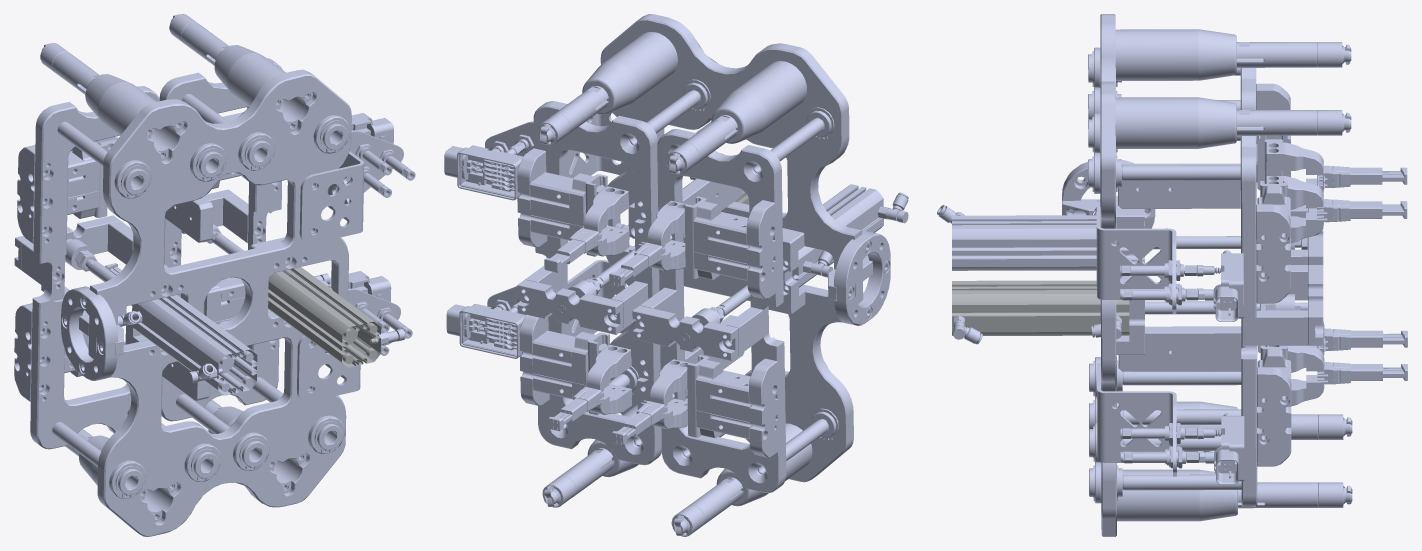
File: imm-insert-gripper.glb
3 views of the same model, side by side, from view 1: azimuth 30°, elevation 25°; view 2: azimuth 150°, elevation 25°; view 3: azimuth 270°, elevation 25° (orthographic). The views are drawn at different scales.
Parts seen in each view (by area): view 1: insert-gripper-frame_mesh, insert-gripper-side-b_mesh, insert-gripper-side-a_mesh; view 2: insert-gripper-frame_mesh, insert-gripper-side-b_mesh, insert-gripper-side-a_mesh, insert-gripper-core-b2_mesh, insert-gripper-core-a1_mesh, insert-gripper-core-b1_mesh, insert-gripper-core-a2_mesh; view 3: insert-gripper-frame_mesh, insert-gripper-side-b_mesh, insert-gripper-side-a_mesh, insert-gripper-core-b2_mesh, insert-gripper-core-a2_mesh, insert-gripper-core-b1_mesh, insert-gripper-core-a1_mesh.
Boxes of the visible parts, left/top/right/bottom form: insert-gripper-frame_mesh: left=14, top=14, right=405, bottom=536; insert-gripper-side-b_mesh: left=299, top=113, right=415, bottom=243; insert-gripper-side-a_mesh: left=297, top=271, right=412, bottom=401; insert-gripper-frame_mesh: left=517, top=14, right=908, bottom=536; insert-gripper-side-b_mesh: left=444, top=112, right=629, bottom=200; insert-gripper-side-a_mesh: left=446, top=260, right=633, bottom=358; insert-gripper-core-b2_mesh: left=544, top=227, right=601, bottom=272; insert-gripper-core-a1_mesh: left=611, top=401, right=667, bottom=445; insert-gripper-core-b1_mesh: left=548, top=386, right=604, bottom=431; insert-gripper-core-a2_mesh: left=609, top=242, right=665, bottom=286; insert-gripper-frame_mesh: left=937, top=14, right=1352, bottom=536; insert-gripper-side-b_mesh: left=1096, top=200, right=1243, bottom=321; insert-gripper-side-a_mesh: left=1097, top=363, right=1244, bottom=484; insert-gripper-core-b2_mesh: left=1317, top=199, right=1407, bottom=222; insert-gripper-core-a2_mesh: left=1317, top=165, right=1407, bottom=187; insert-gripper-core-b1_mesh: left=1317, top=362, right=1407, bottom=384; insert-gripper-core-a1_mesh: left=1317, top=328, right=1407, bottom=350.
Size of the model in its own units: 338 by 382 by 364.
